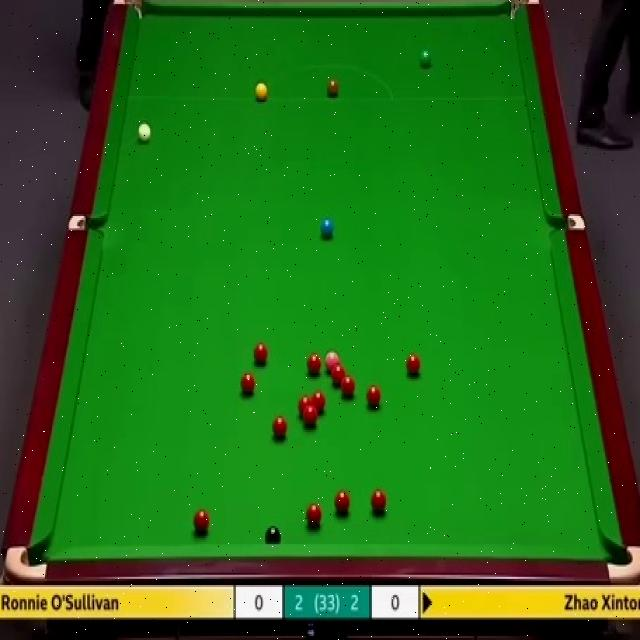black-ball: (265, 526, 281, 545)
blue-ball: (319, 214, 334, 240)
brown-ball: (326, 79, 338, 97)
green-ball: (417, 49, 433, 69)
pink-ball: (326, 351, 340, 374)
red-ball: (405, 353, 422, 382), (370, 488, 387, 515), (193, 508, 210, 534), (334, 490, 350, 516), (365, 384, 381, 410), (241, 374, 257, 399), (307, 502, 322, 528), (272, 416, 287, 440), (312, 391, 326, 416), (331, 363, 346, 386), (341, 375, 355, 399), (254, 343, 268, 365), (298, 395, 312, 416), (304, 408, 317, 428), (308, 356, 321, 375)
white-ball: (136, 120, 151, 145)
yellow-ball: (254, 80, 268, 101)
